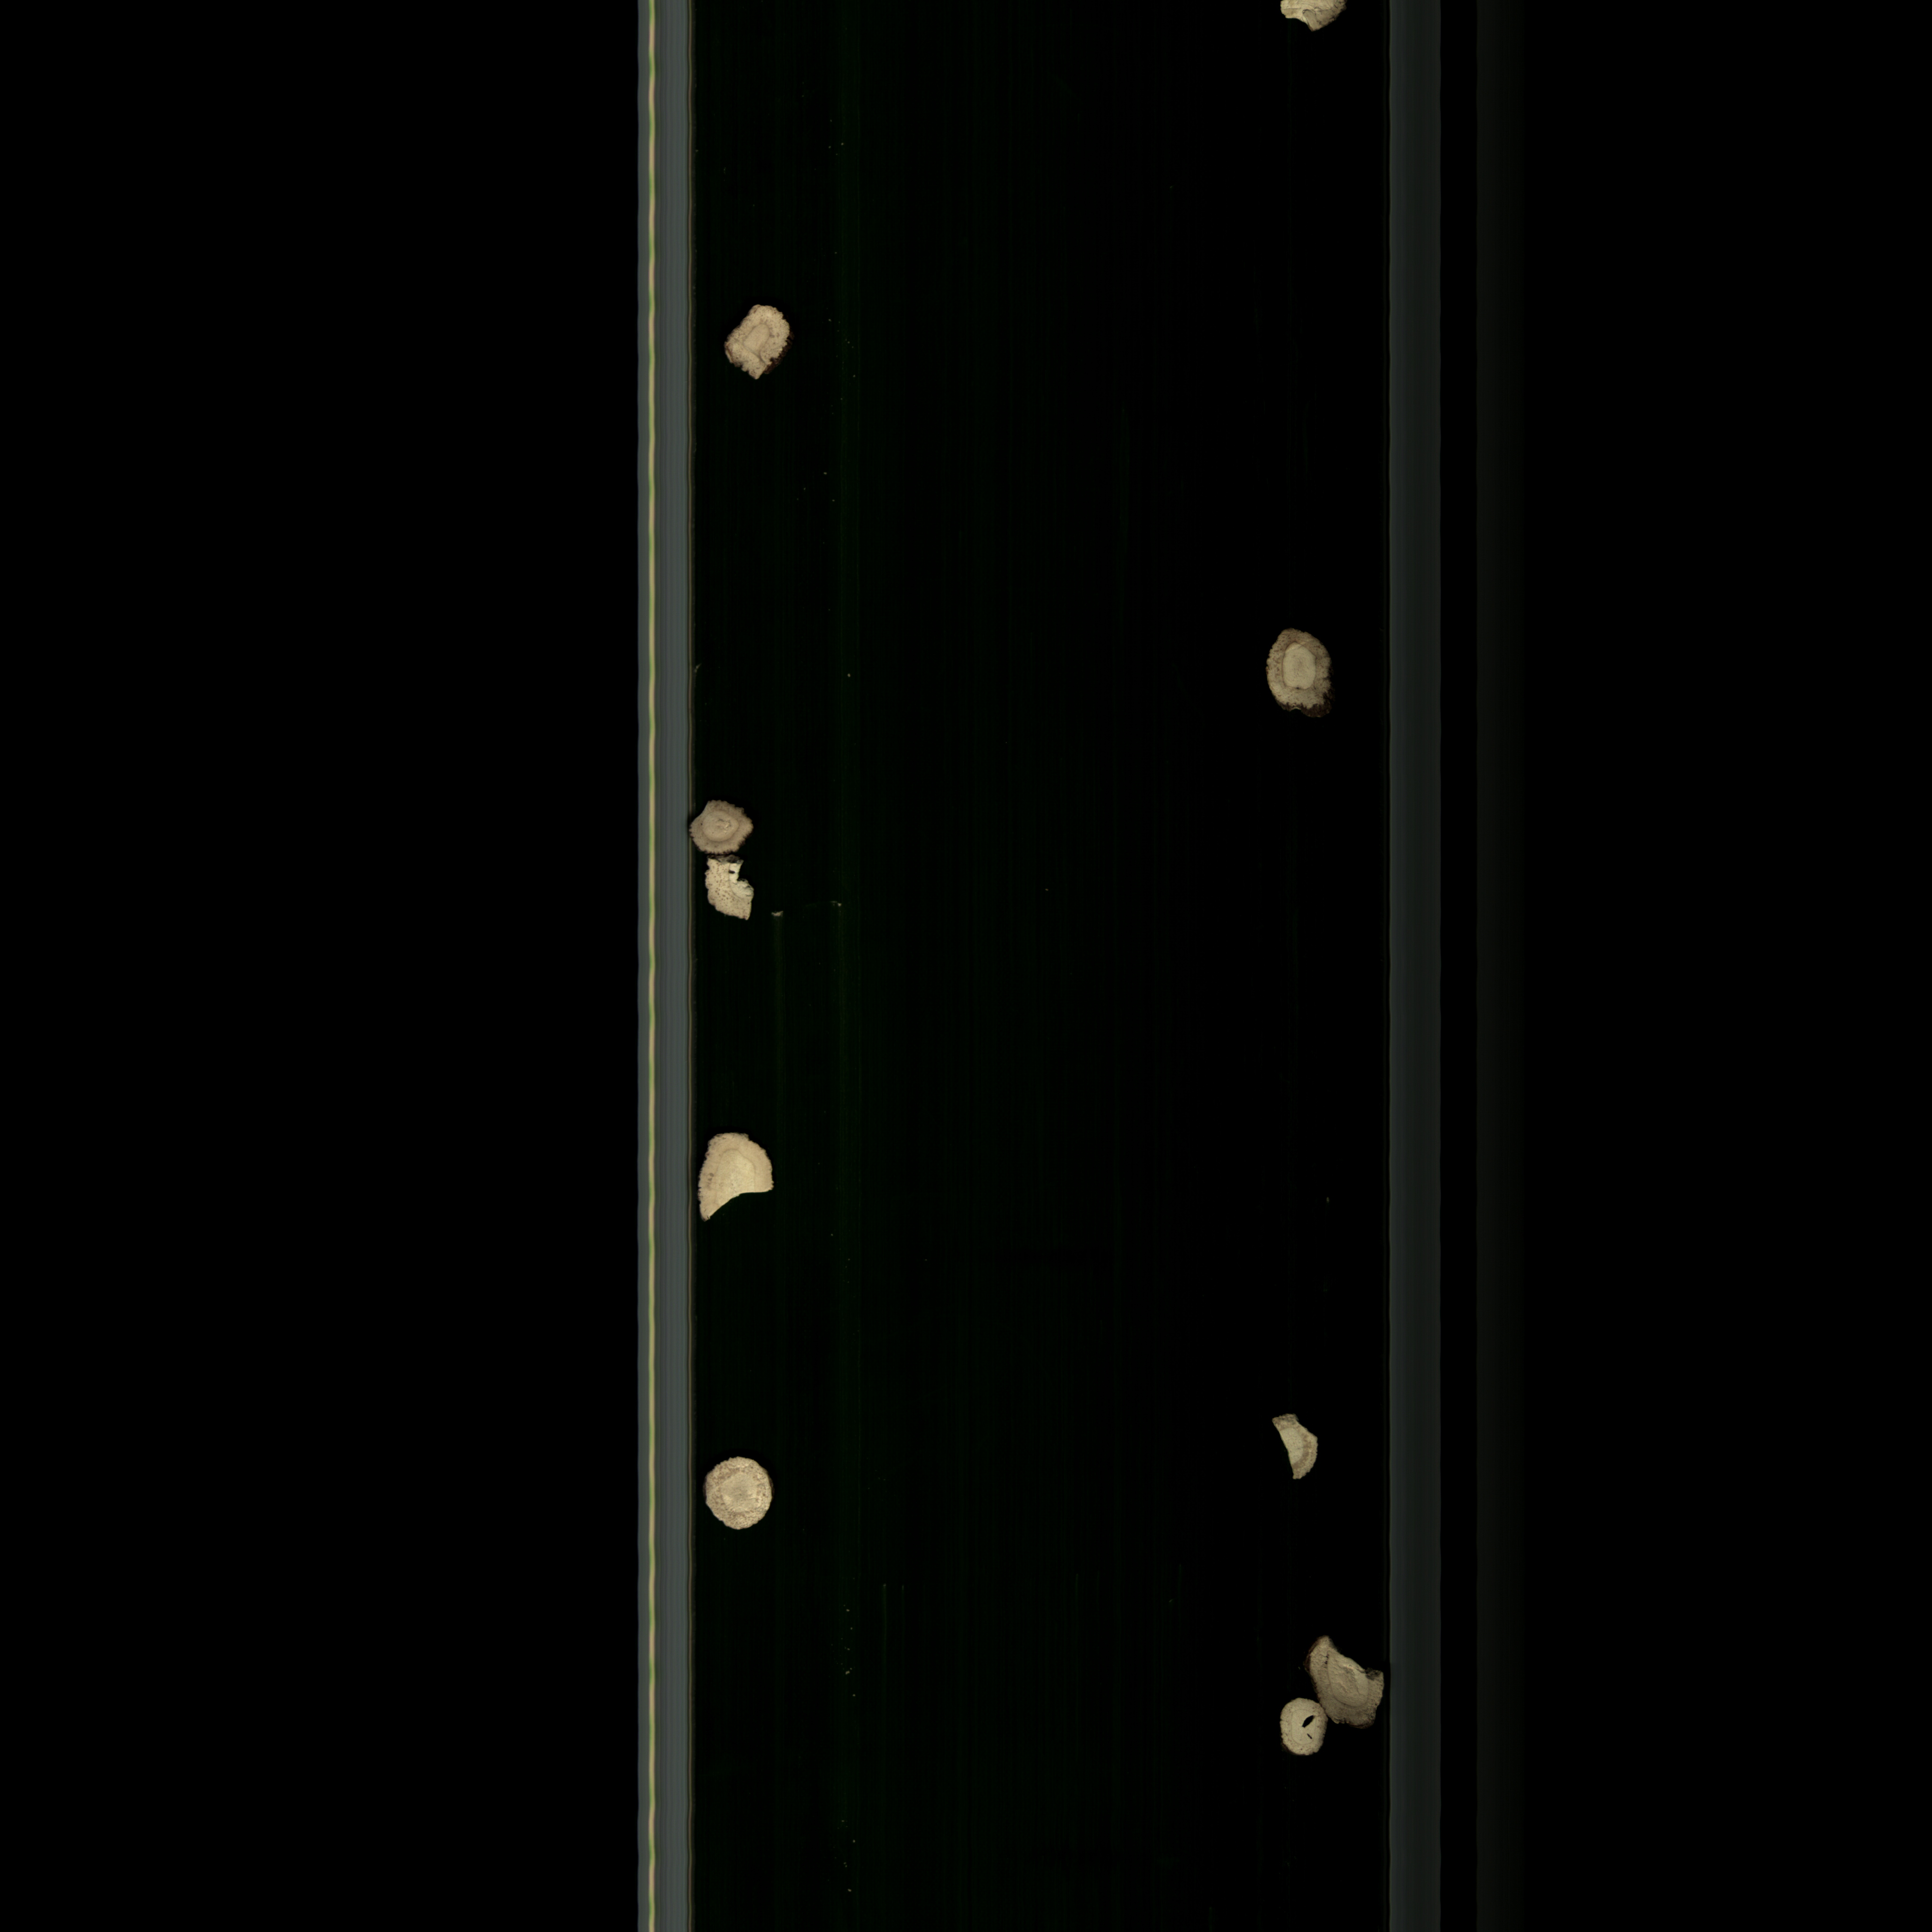debris: (694, 1125, 784, 1228), (1265, 1407, 1327, 1495), (702, 847, 759, 934)
hole: (1267, 1688, 1343, 1778)
moldy: (1249, 619, 1357, 729), (1299, 1629, 1398, 1737), (713, 295, 794, 386), (686, 794, 768, 858)
